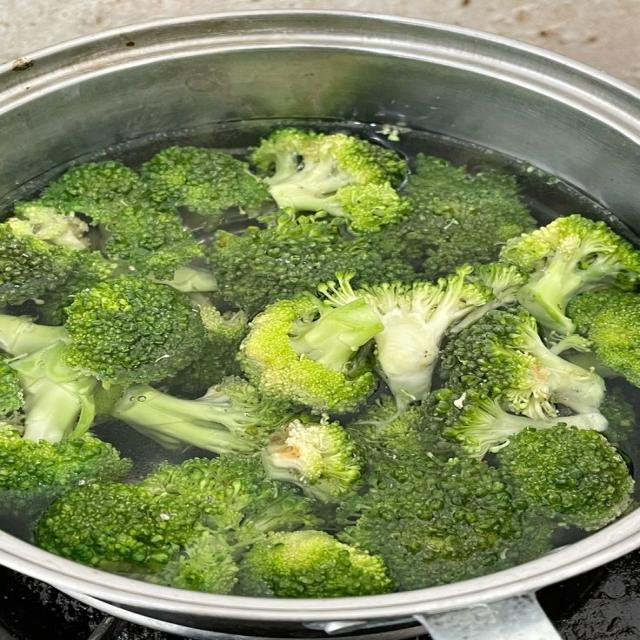broccoli: (35, 457, 319, 574), (339, 450, 551, 589), (319, 267, 490, 409), (35, 161, 215, 290), (0, 341, 131, 516), (208, 216, 415, 314), (374, 155, 534, 279), (442, 308, 604, 418), (240, 295, 383, 413), (250, 128, 408, 233), (501, 214, 639, 334), (142, 455, 320, 544), (65, 276, 204, 385), (35, 483, 201, 572), (498, 426, 633, 530), (111, 378, 291, 453), (429, 388, 606, 459), (0, 423, 131, 516), (98, 199, 216, 291), (236, 530, 393, 597), (347, 395, 462, 484), (141, 147, 268, 219), (11, 341, 98, 442), (261, 419, 363, 502), (172, 305, 248, 396), (34, 251, 126, 325), (0, 218, 78, 305), (570, 291, 639, 386), (40, 160, 146, 221), (144, 530, 238, 593), (451, 263, 528, 333), (9, 200, 89, 249), (567, 288, 629, 336), (0, 314, 70, 356), (600, 385, 637, 451), (0, 354, 24, 422)
